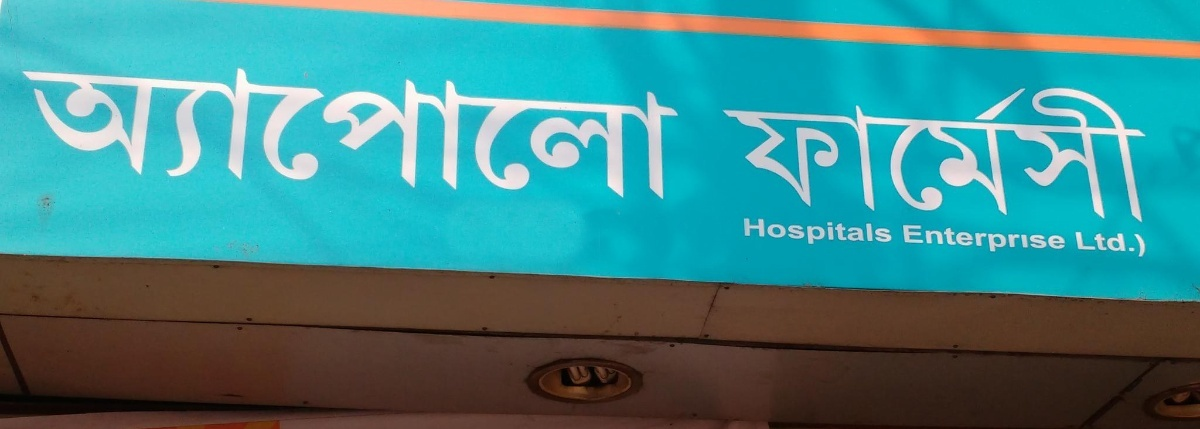text: (721, 68, 736, 227), (737, 68, 752, 227), (753, 68, 768, 227), (769, 68, 784, 227), (785, 68, 800, 227), (801, 68, 816, 227), (817, 68, 832, 227), (833, 68, 848, 227), (849, 68, 864, 227), (865, 68, 880, 227), (881, 68, 896, 227), (897, 68, 912, 227), (913, 68, 928, 227), (929, 68, 944, 227), (945, 68, 960, 227), (961, 68, 976, 227), (977, 68, 992, 227), (993, 68, 1008, 227), (1009, 68, 1024, 227), (1025, 68, 1040, 227), (1041, 68, 1056, 227), (1057, 68, 1072, 227), (1073, 68, 1088, 227), (1089, 68, 1104, 227), (1105, 68, 1120, 227), (1121, 68, 1136, 227), (1137, 68, 1152, 227), (33, 53, 48, 209), (49, 53, 64, 209), (65, 53, 80, 209), (81, 53, 96, 209), (97, 53, 112, 209), (113, 53, 128, 209), (129, 53, 144, 209), (145, 53, 160, 209), (161, 53, 176, 209), (177, 53, 192, 209), (193, 53, 208, 209), (209, 53, 224, 209), (225, 53, 240, 209), (241, 53, 256, 209), (257, 53, 272, 209), (273, 53, 288, 209), (289, 53, 304, 209), (305, 53, 320, 209), (321, 53, 336, 209), (337, 53, 352, 209), (353, 53, 368, 209), (369, 53, 384, 209), (385, 53, 400, 209), (401, 53, 416, 209), (417, 53, 432, 209), (433, 53, 448, 209), (449, 53, 464, 209), (465, 53, 480, 209), (481, 53, 496, 209), (497, 53, 512, 209), (513, 53, 528, 209), (529, 53, 544, 209), (545, 53, 560, 209), (561, 53, 576, 209), (577, 53, 592, 209), (593, 53, 608, 209), (609, 53, 624, 209), (625, 53, 640, 209), (641, 53, 656, 209), (657, 53, 672, 209), (673, 53, 688, 209), (1153, 68, 1162, 227), (23, 53, 32, 209), (1057, 224, 1073, 258), (753, 213, 768, 249), (769, 213, 784, 249), (785, 213, 800, 249), (801, 213, 816, 249), (817, 213, 832, 249), (833, 213, 848, 249), (849, 213, 864, 249), (865, 213, 880, 249), (1073, 226, 1088, 261), (1089, 226, 1104, 261), (1105, 226, 1120, 261), (1121, 226, 1136, 261), (913, 224, 928, 258), (929, 224, 944, 258), (945, 224, 960, 258), (961, 224, 976, 258), (977, 224, 992, 258), (993, 224, 1008, 258), (1009, 224, 1024, 258), (1025, 224, 1040, 258), (1041, 224, 1056, 258), (689, 53, 692, 209), (739, 213, 752, 249), (881, 213, 894, 249), (1137, 226, 1148, 261), (901, 224, 912, 258), (718, 68, 720, 227), (1071, 226, 1072, 261)
